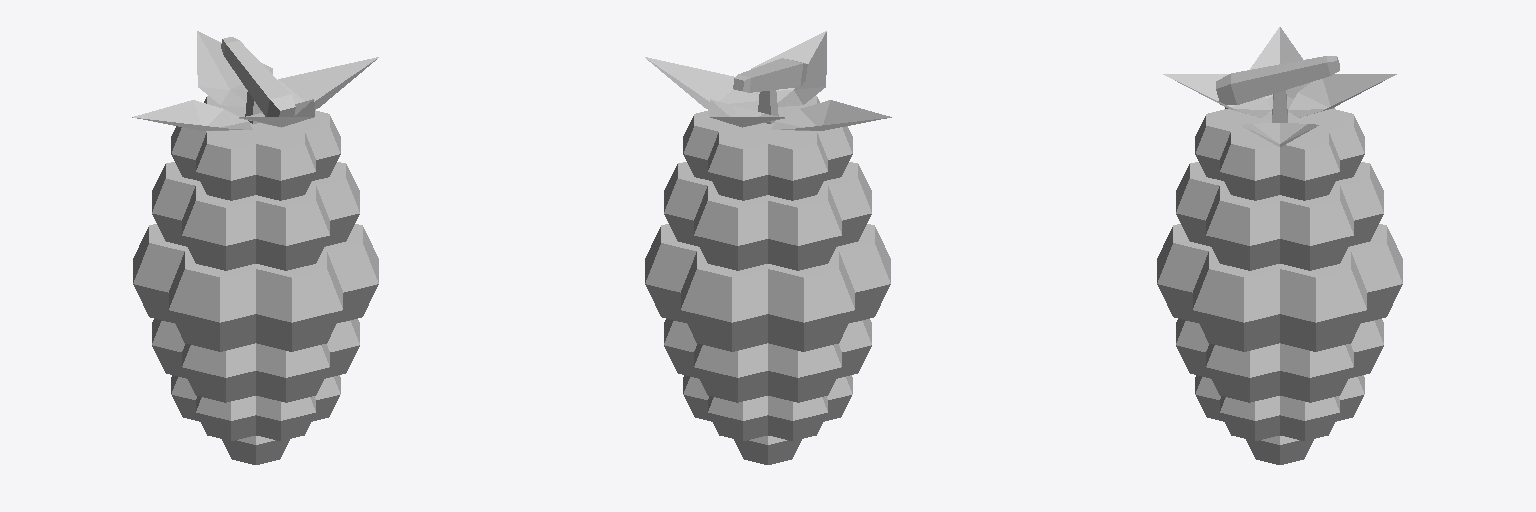
File: grapes.obj
3 views of the same model, side by side, from view 1: azimuth 30°, elevation 25°; view 2: azimuth 150°, elevation 25°; view 3: azimuth 270°, elevation 25° (orthographic).
Visible parts, largest first — view 1: grapes; view 2: grapes; view 3: grapes.
Part boxes in pixels (left/top/right/bottom): grapes: left=132, top=31, right=378, bottom=464; grapes: left=645, top=31, right=891, bottom=464; grapes: left=1157, top=27, right=1402, bottom=464.
Bounding box in the file's own units: 0.279 × 0.4226 × 0.2386.